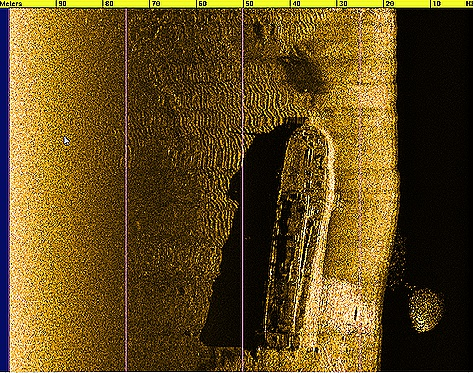ship: (261, 112, 337, 354)
